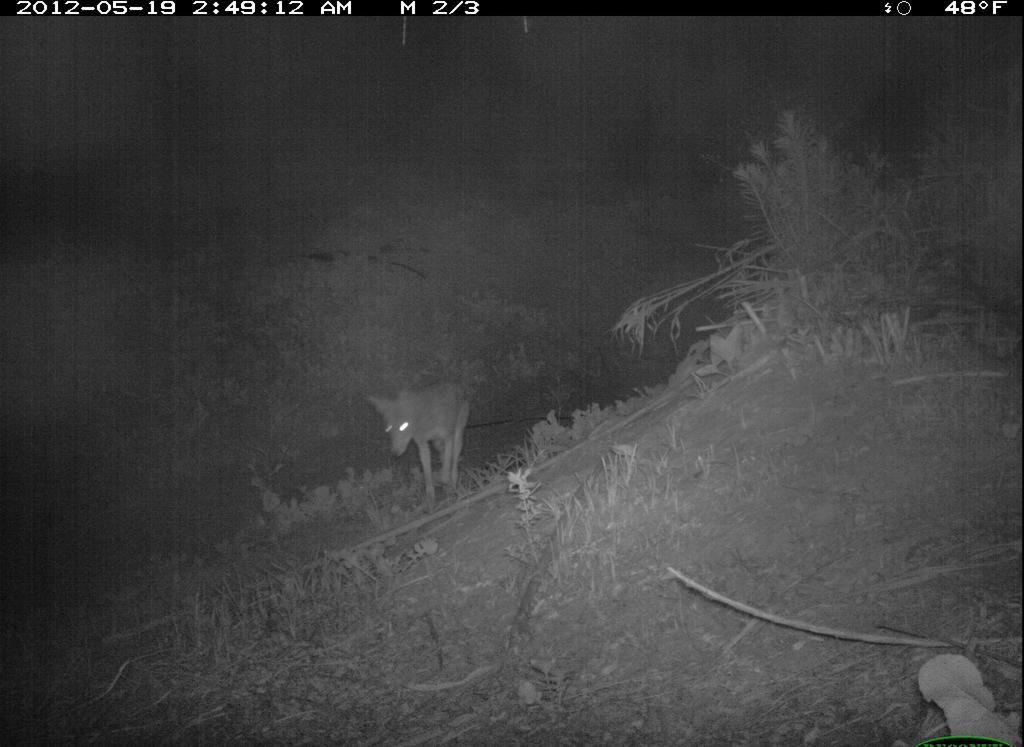coyote: (360, 378, 477, 511)
